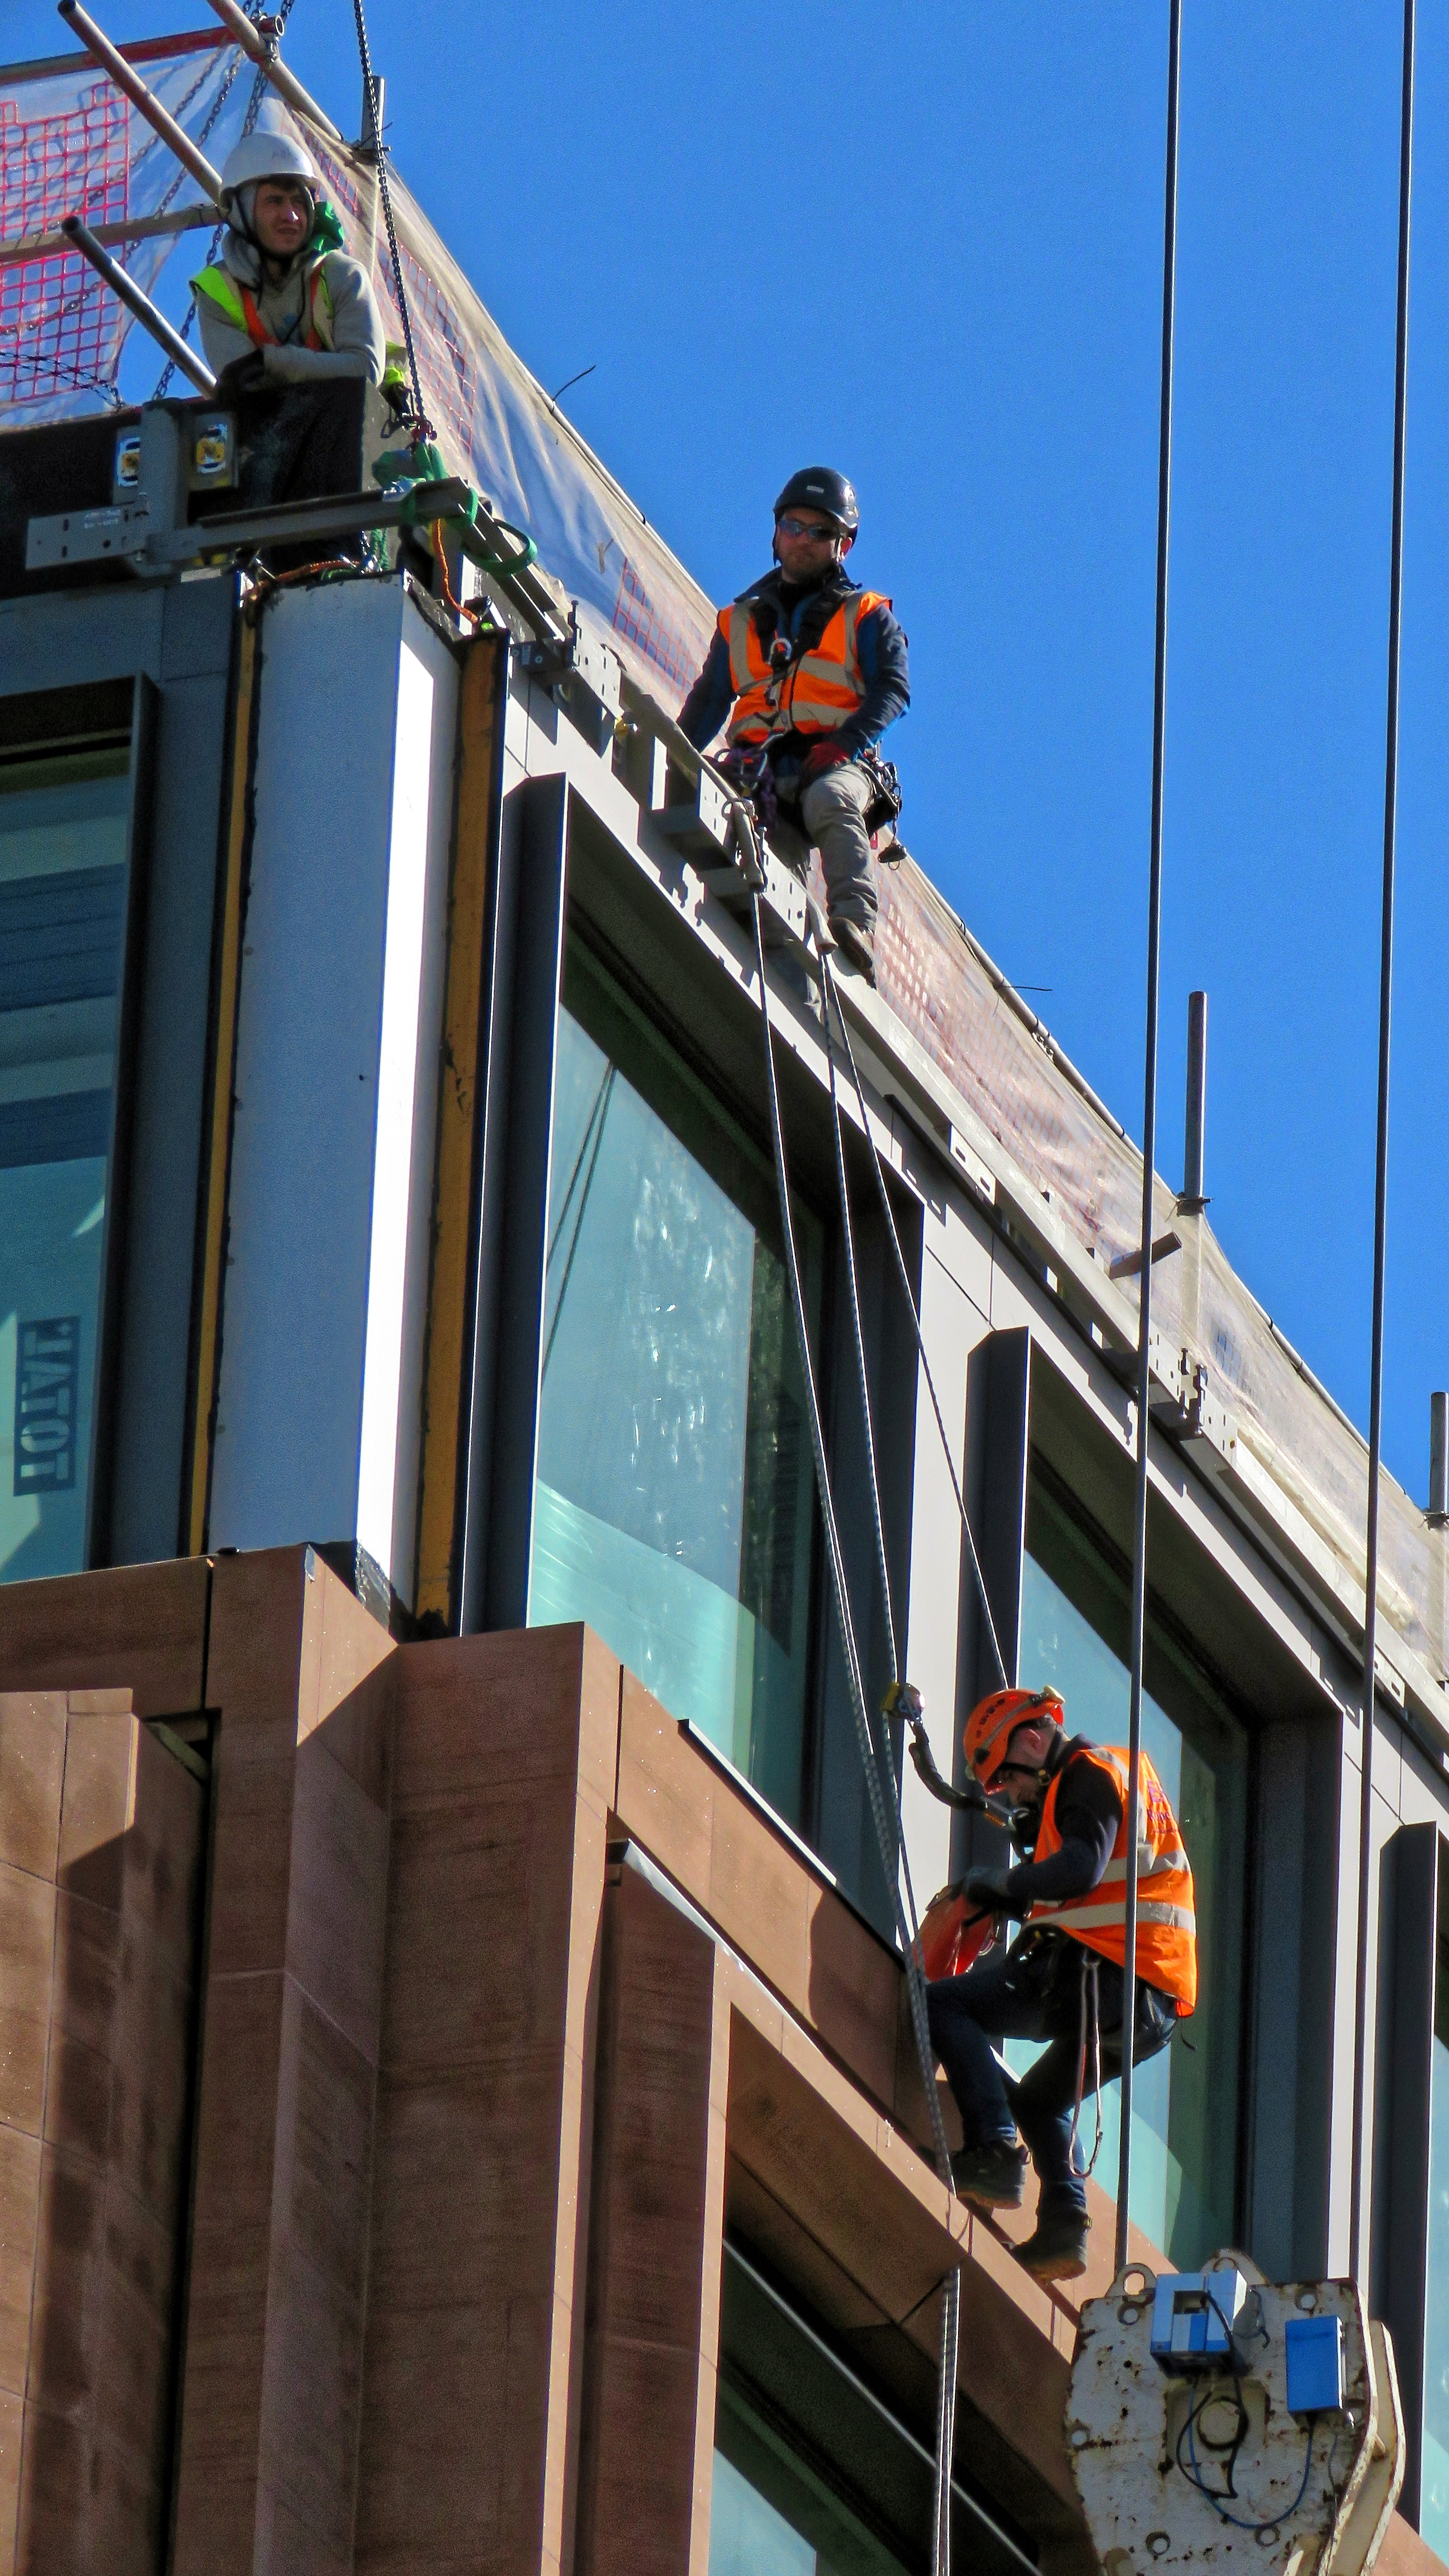red: (961, 1688, 1065, 1808)
white: (218, 134, 317, 251)
